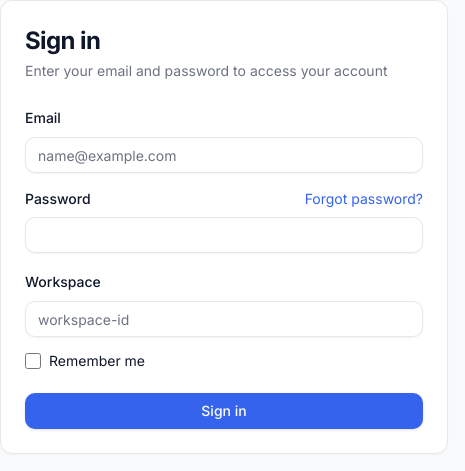
it: LoginForm › submission › should disable button during submission
Type "test@example.com" into the field labelled "Email" at (224, 155), box [25,137,423,173]
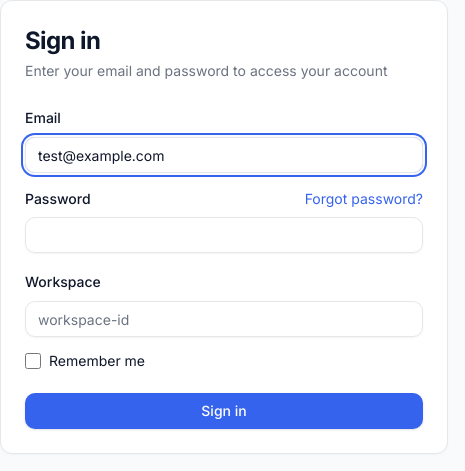
Type "password123" into the password field labelled "Password" at (224, 235), box [25,217,423,253]
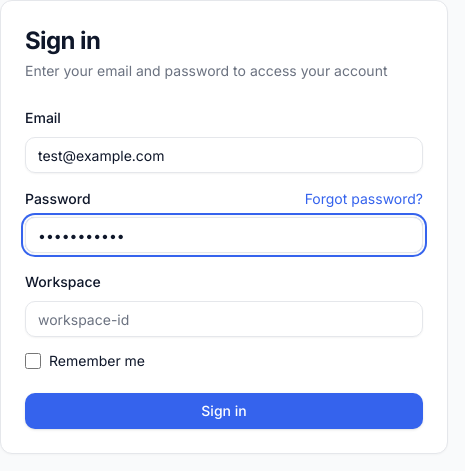
Type "test-tenant" into the field labelled "Workspace" at (224, 319), box [25,301,423,337]
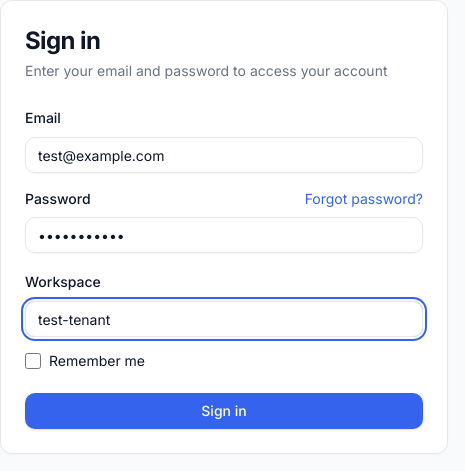
Click the button "Sign in" at (224, 411), box [25,393,423,429]
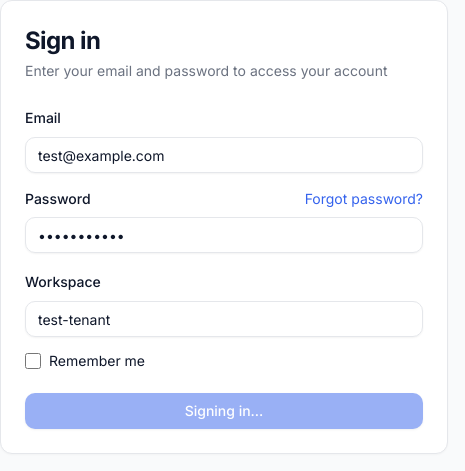
Expected: the button "Signing in..." is disabled, [25,393,423,429]
